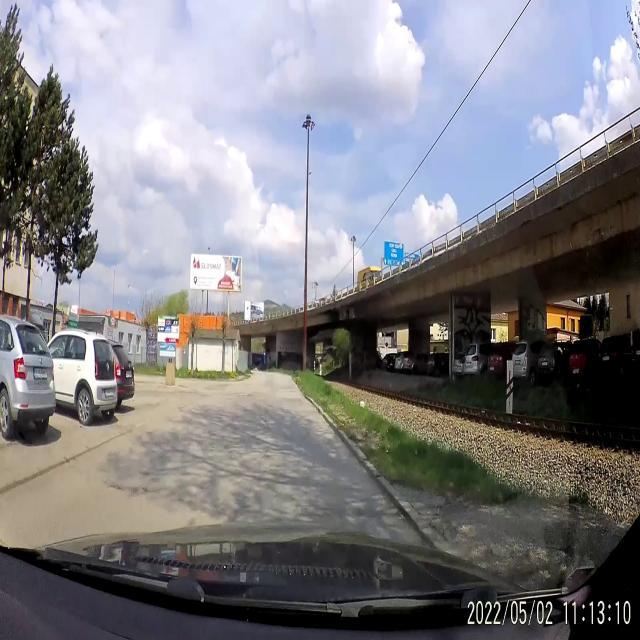Pothole: (98, 467, 154, 505)
